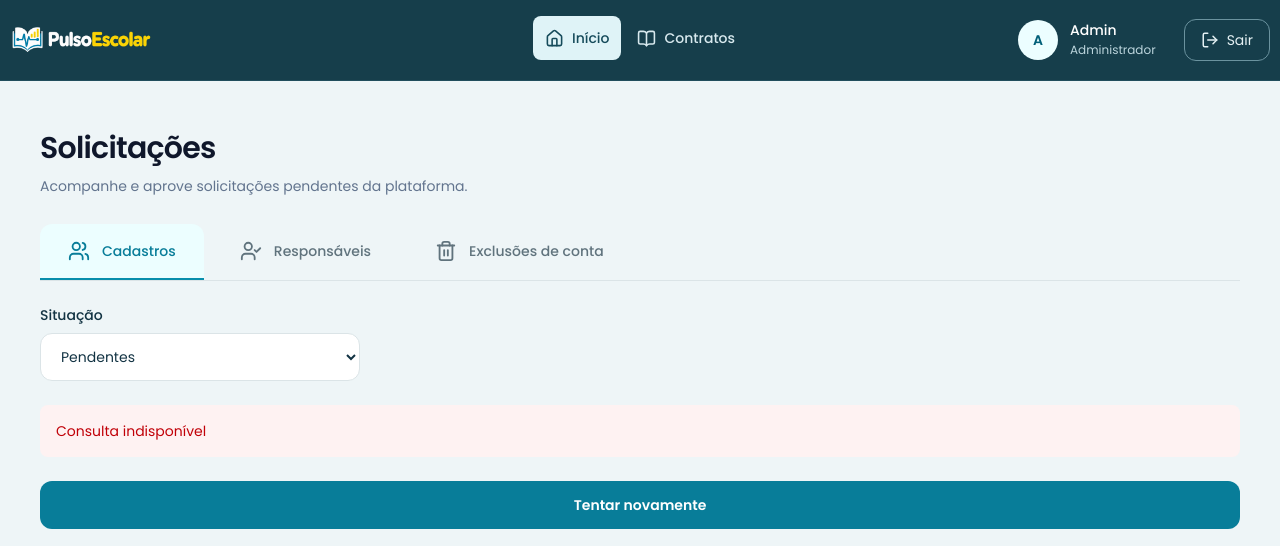
Test case: solicitações vazias e falhas podem ser consultadas novamente
The image size is (1280, 546).
Expected: the message "Consulta indisponível" is shown, x1=40 y1=405 x2=1240 y2=457
Click the button "Tentar novamente" at x=640, y=505, box x1=40 y1=481 x2=1240 y2=529
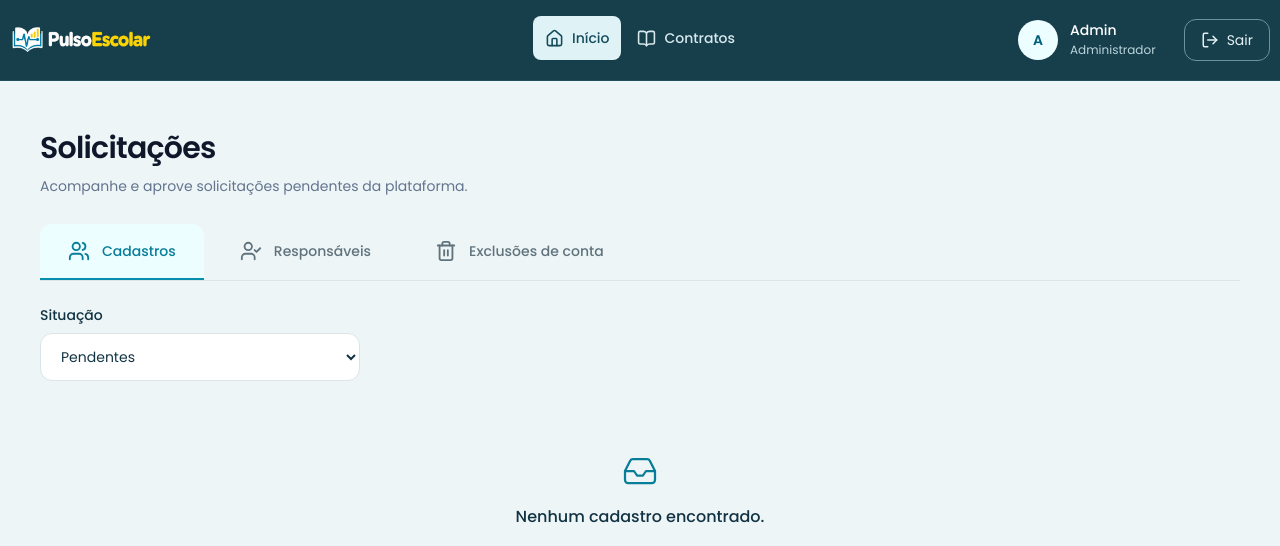
Expected: the text "Nenhum cadastro encontrado." is shown, x1=516 y1=505 x2=764 y2=529
